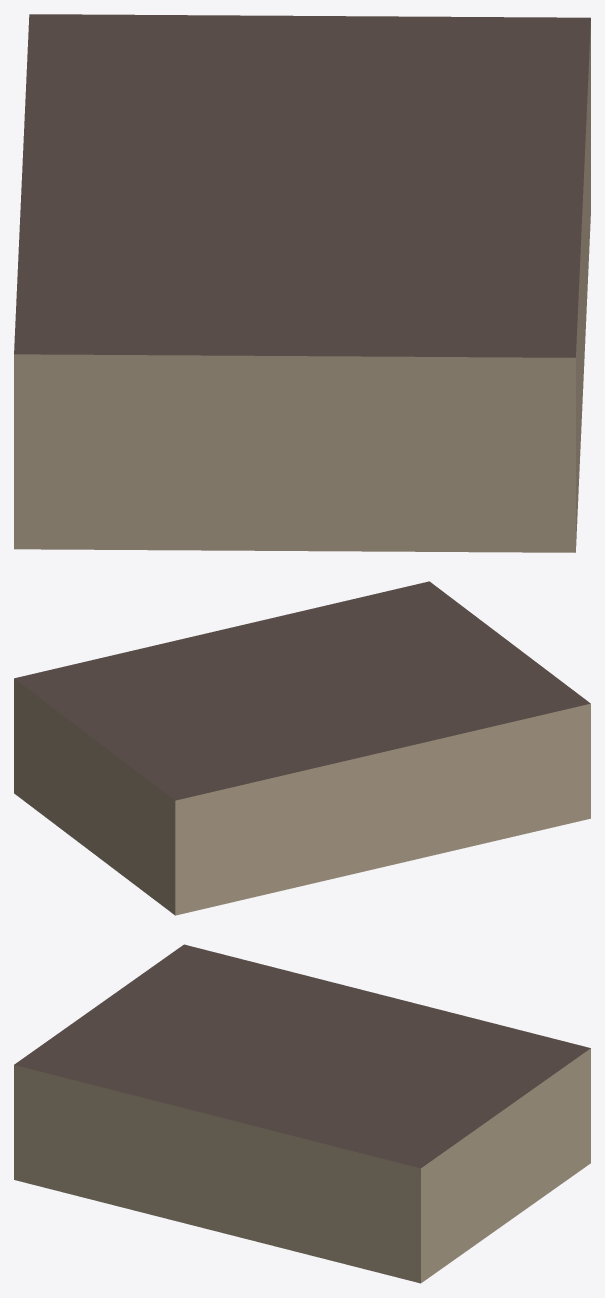
3 views of the same model, one above another, from view 1: azimuth 30°, elevation 25°; view 2: azimuth 150°, elevation 25°; view 3: azimuth 270°, elevation 25° (orthographic). The views are drawn at different scales.
Visible parts, largest first — view 1: HP-w1287055057; view 2: HP-w1287055057; view 3: HP-w1287055057.
Boxes of the visible parts, bbox=[...] form: HP-w1287055057: bbox=[14, 14, 590, 552]; HP-w1287055057: bbox=[14, 581, 590, 915]; HP-w1287055057: bbox=[14, 944, 590, 1283].
Size of the model in its own units: 37.56 by 9 by 40.89.
